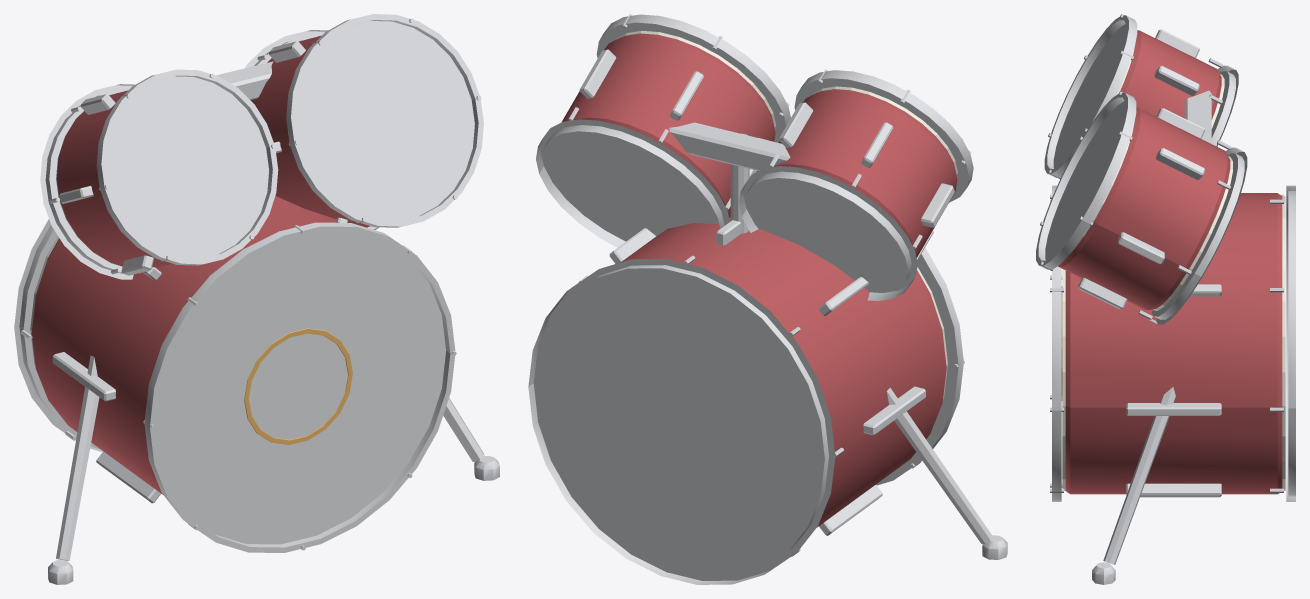
Rendered from bass-toms.glb.
3 views of the same model, side by side, from view 1: azimuth 30°, elevation 25°; view 2: azimuth 150°, elevation 25°; view 3: azimuth 270°, elevation 25° (orthographic). The views are drawn at different scales.
Visible parts, largest first — view 1: drum-kick-with-toms; view 2: drum-kick-with-toms; view 3: drum-kick-with-toms.
Part boxes in pixels (x1,y1,x2,y2): drum-kick-with-toms: (14,14,499,584); drum-kick-with-toms: (528,14,1007,584); drum-kick-with-toms: (1036,14,1295,584).
Size of the model in its own units: 0.8641 by 0.8843 by 0.4818.
